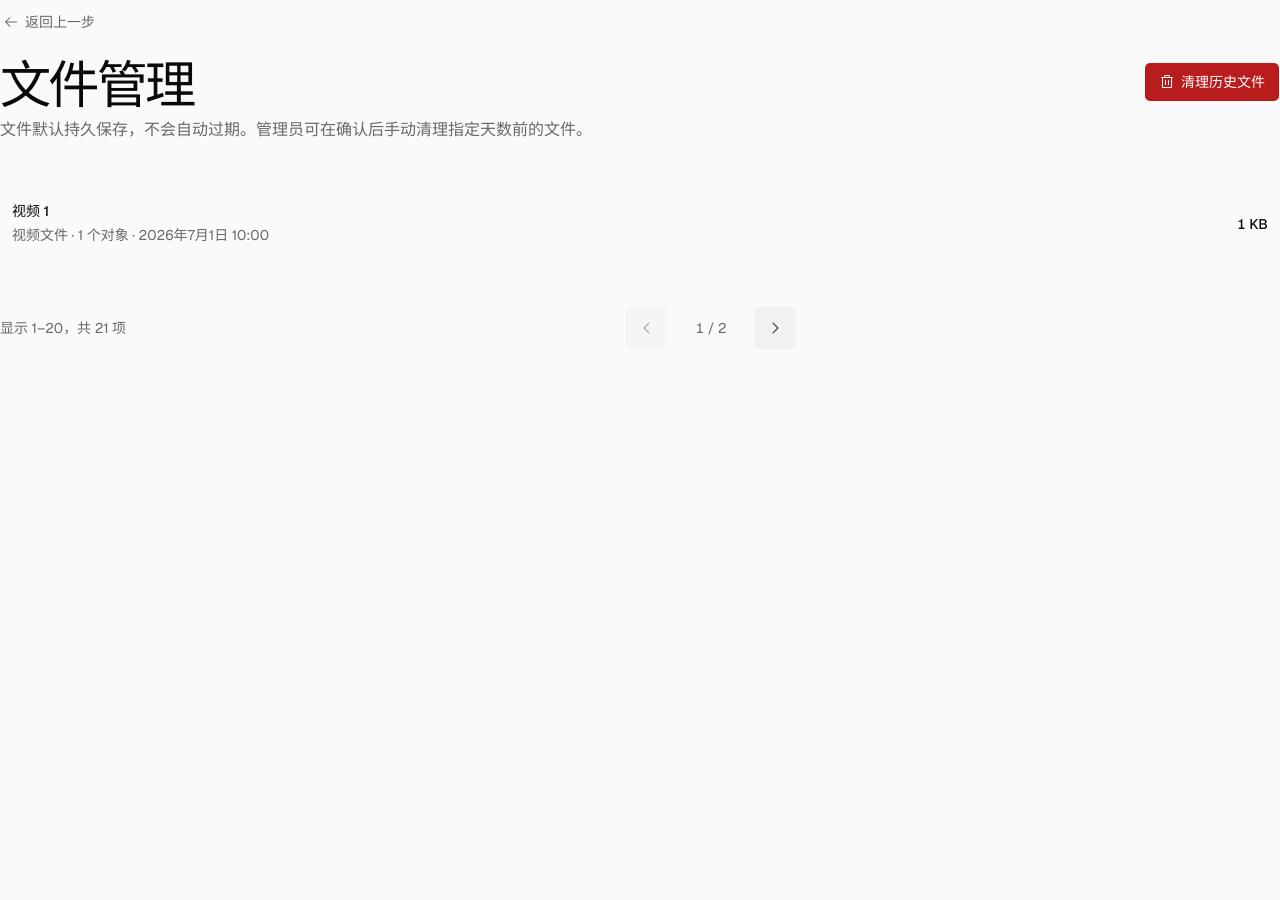
it: administrator storage management › paginates persistent files and cleans files older than 30 days by default
The image size is (1280, 900).
Expected: the text "文件默认持久保存，不会自动过期。管理员可在确认后手动清理指定天数前的文件。" is shown, [0,118,592,142]
Step 1. Click the button named "下一页" → (775, 328), box [753,306,797,350]
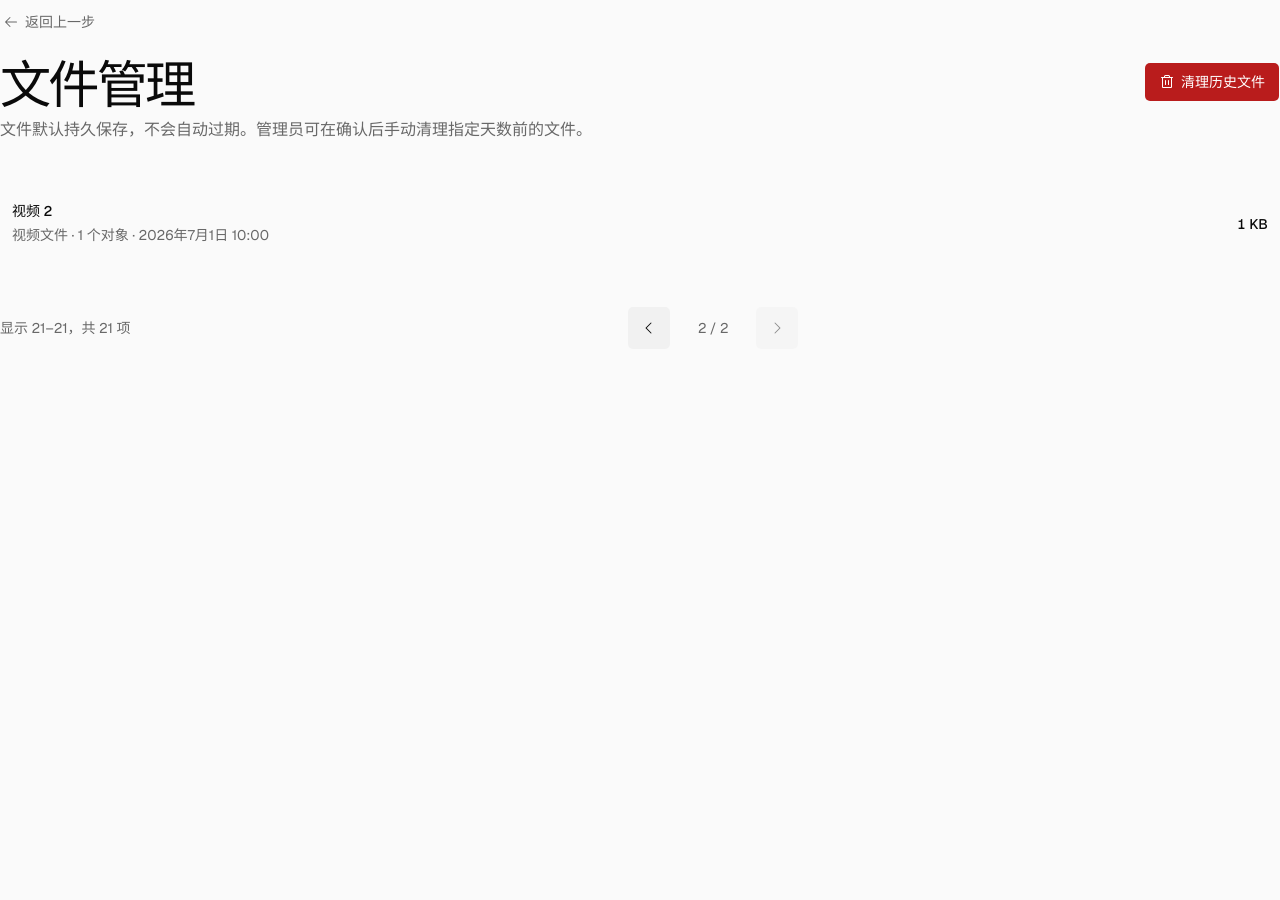
Expected: the text "视频 2" is shown, [12,202,52,220]
Step 2. Click the button "清理历史文件" → (1212, 82), box [1144,62,1279,102]
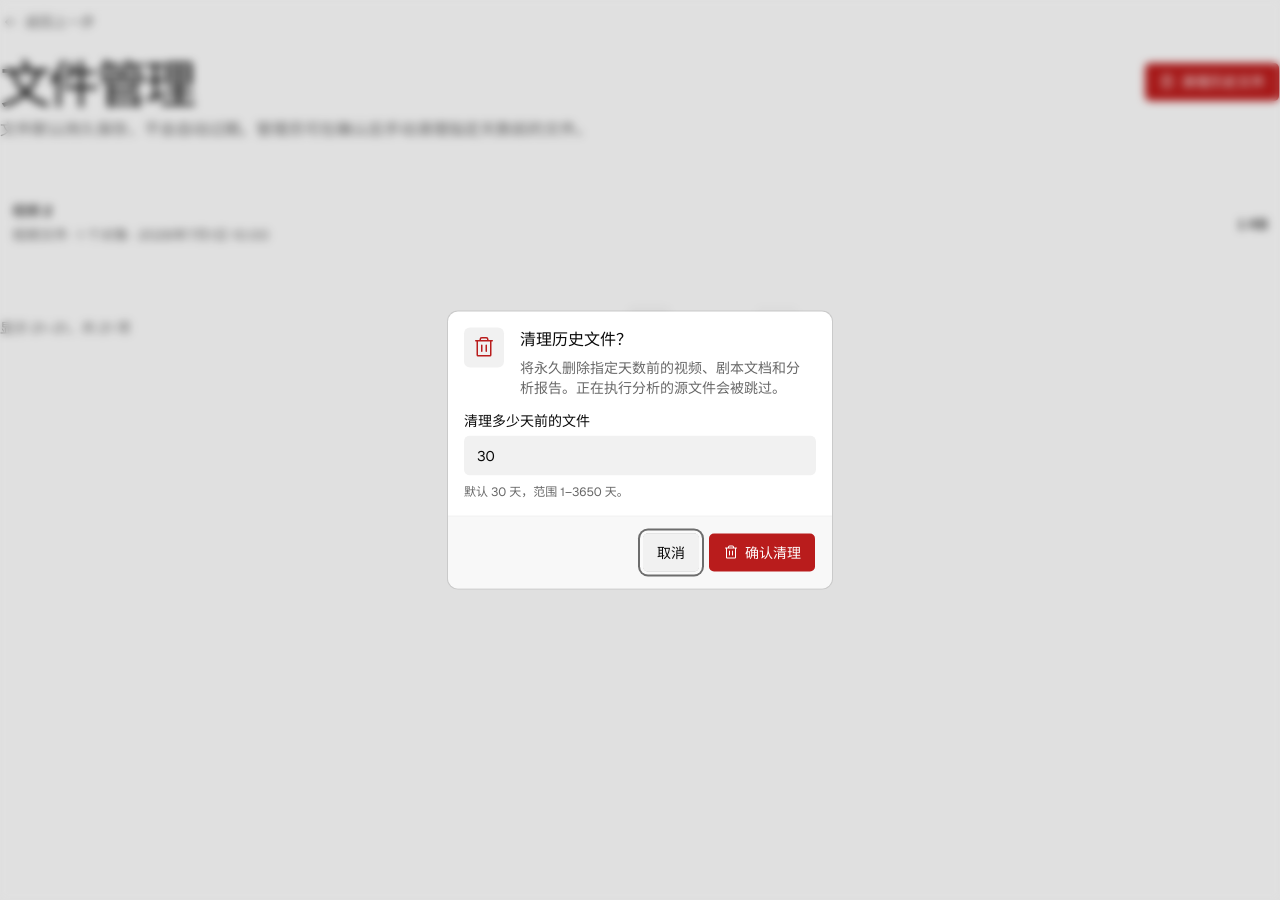
Expected: the number field labelled "清理多少天前的文件" holds "30", [464,436,816,476]
Step 3. Click the button "确认清理" → (762, 552), box [708,532,816,572]
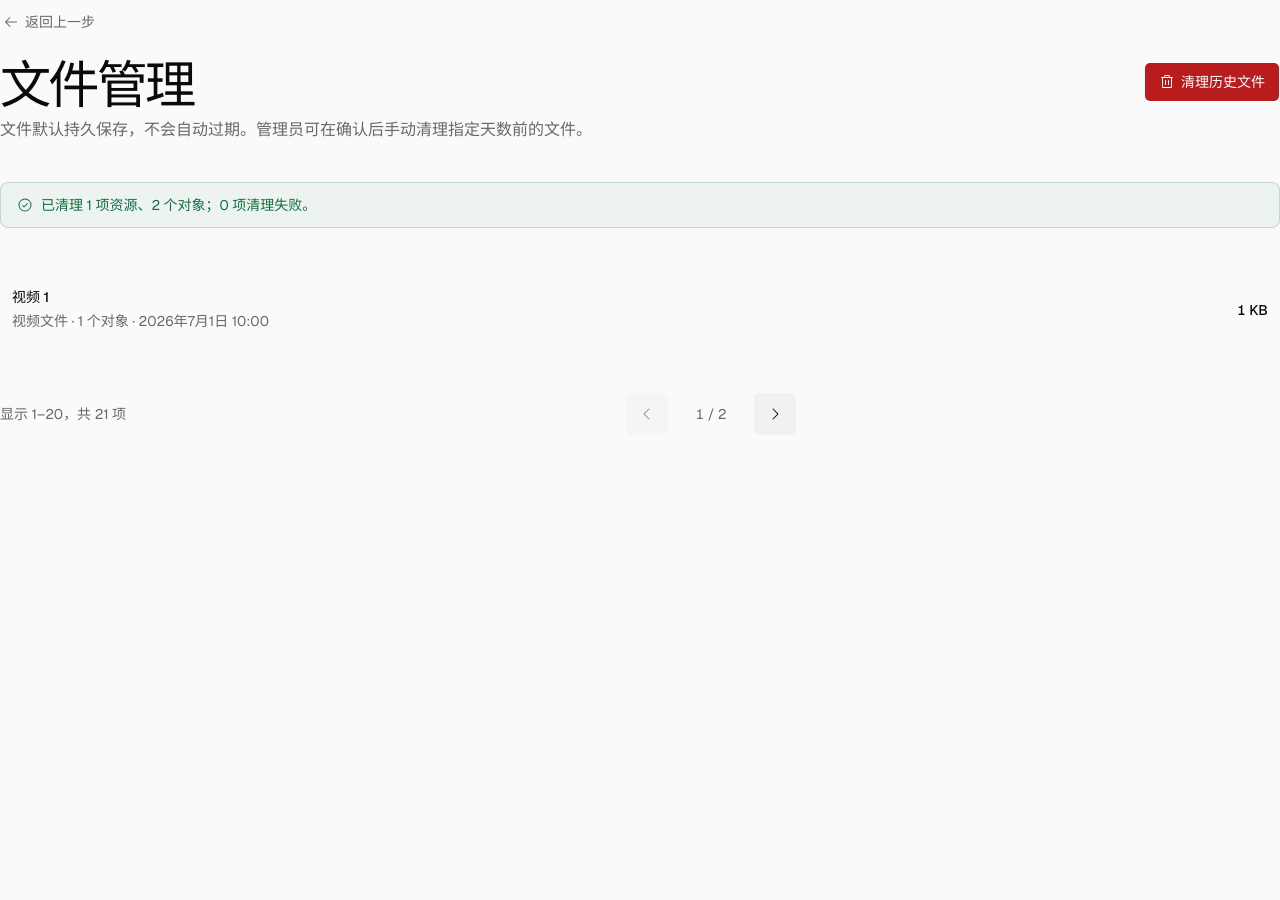
Expected: the text "已清理 1 项资源、2 个对象；0 项清理失败。" is shown, [41,196,316,214]
